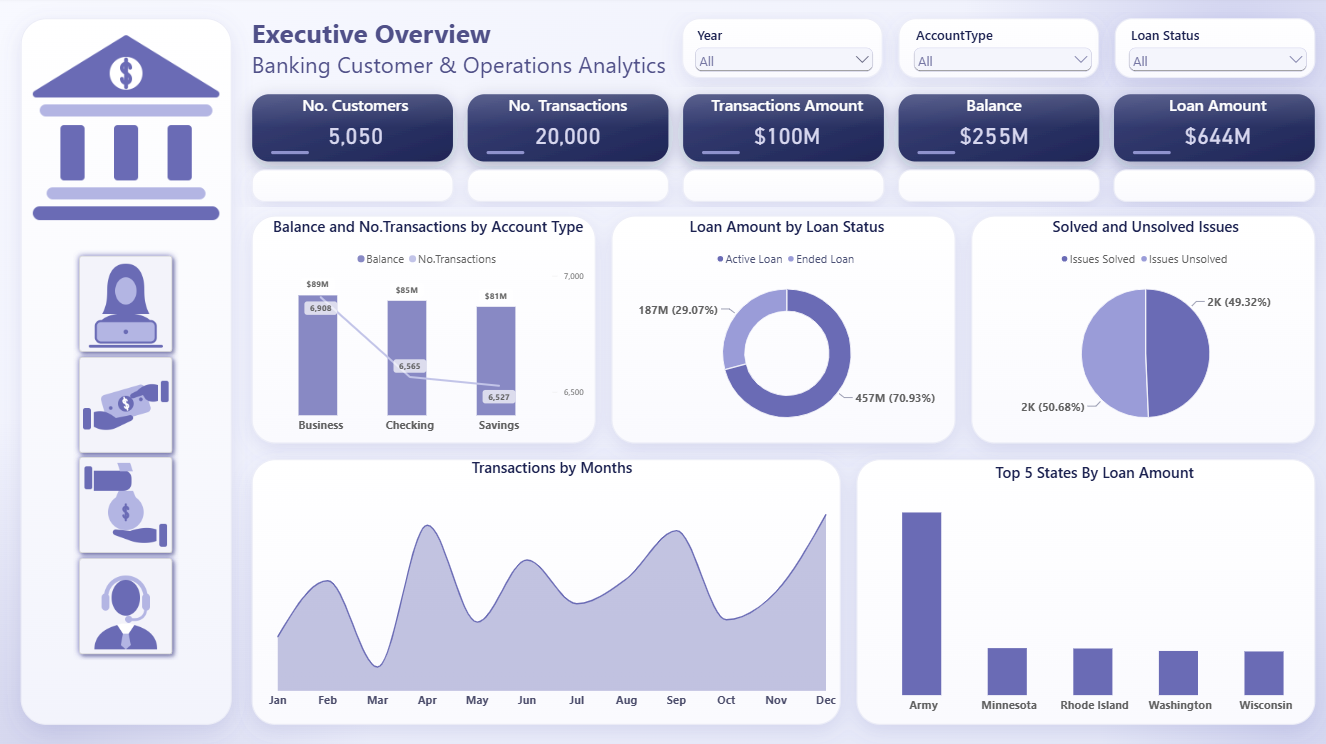

This screenshot's page, from the dashboard's own definition file:
{"tool":"powerbi","page":{"name":"Overview","canvas":[1920,1080],"ordinal":0},"visuals":[{"type":"advanceCardE03760C5AB684758B56AA29F9E6C257B","title":"Loan Amount","fields":{"mainMeasure":["Calculations Overview.Loan Amount"]},"box":[1600,128,288,96],"z":0},{"type":"advanceCardE03760C5AB684758B56AA29F9E6C257B","title":"Balance","fields":{"mainMeasure":["Calculations Overview.Balance"]},"box":[1280,128,288,96],"z":1000},{"type":"advanceCardE03760C5AB684758B56AA29F9E6C257B","title":"No. Transactions ","fields":{"mainMeasure":["Calculations Overview.No.Transactions"]},"box":[672,128,288,96],"z":2000},{"type":"slicer","fields":{"Values":["Accounts.AccountType"]},"box":[1292,32,288,96],"z":3000},{"type":"slicer","fields":{"Values":["Loans.Loan Status"]},"box":[1600,32,288,96],"z":4000},{"type":"slicer","fields":{"Values":["DimDate.Year"]},"box":[980,32,288,96],"z":5000},{"type":"advanceCardE03760C5AB684758B56AA29F9E6C257B","title":"No. Customers","fields":{"mainMeasure":["Calculations Overview.No.Customers"]},"box":[368,128,288,96],"z":6000},{"type":"advanceCardE03760C5AB684758B56AA29F9E6C257B","title":"Transactions Amount ","fields":{"mainMeasure":["Calculations Overview.Amount Transactions"]},"box":[976,128,304,96],"z":7000},{"type":"advanceCardE03760C5AB684758B56AA29F9E6C257B","fields":{"mainMeasure":["Calculations Overview.show Customer"]},"box":[352,247,300,48],"z":8000},{"type":"advanceCardE03760C5AB684758B56AA29F9E6C257B","fields":{"mainMeasure":["Calculations Overview.Show Transaction"]},"box":[656,247,300,48],"z":9000},{"type":"advanceCardE03760C5AB684758B56AA29F9E6C257B","fields":{"mainMeasure":["Calculations Overview.Show Amount Transaction"]},"box":[976,247,300,48],"z":10000},{"type":"advanceCardE03760C5AB684758B56AA29F9E6C257B","fields":{"mainMeasure":["Calculations Overview.show Loan"]},"box":[1600,247,300,48],"z":11000},{"type":"advanceCardE03760C5AB684758B56AA29F9E6C257B","fields":{"mainMeasure":["Calculations Overview.Show Balance"]},"box":[1280,247,300,48],"z":12000},{"type":"lineClusteredColumnComboChart","title":"Balance and No.Transactions by Account Type","fields":{"Category":["Accounts.AccountType"],"Y":["Calculations Overview.Balance"],"Y2":["Calculations Overview.No.Transactions"]},"box":[368,304,496,336],"z":13000},{"type":"donutChart","title":"Loan Amount by Loan Status","fields":{"Category":["Loans.Loan Status"],"Y":["Sum(Loans.LoanAmount)"]},"box":[880,304,496,336],"z":14000},{"type":"lineChart","title":"Transactions by Months","fields":{"Category":["DimDate.MonthName"],"Y":["Calculations Overview.No.Transactions"]},"box":[360,648,864,384],"z":15000},{"type":"lineClusteredColumnComboChart","title":"Top 5 States By Loan Amount","fields":{"Category":["Customers.State"],"Y":["Calculations Overview.Loan Amount"]},"box":[1232,656,672,384],"z":16000},{"type":"pieChart","title":"Solved and Unsolved Issues","fields":{"Y":["Customer Survice.Issues Solved","Customer Survice.Issues Unsolved"]},"box":[1392,304,496,336],"z":17000},{"type":"cardVisual","fields":{"Data":["Calculations Overview.Arrow Cutomer"]},"box":[527,238,80,65],"z":18000},{"type":"cardVisual","fields":{"Data":["Calculations Overview.Arrow Transactions"]},"box":[827,238,80,65],"z":19000},{"type":"cardVisual","fields":{"Data":["Calculations Overview.Arrow Amount Transactions"]},"box":[1147,238,80,65],"z":20000},{"type":"cardVisual","fields":{"Data":["Calculations Overview.Arrow Balance"]},"box":[1455,238,80,65],"z":21000},{"type":"cardVisual","fields":{"Data":["Calculations Overview.Arrow Loan"]},"box":[1770,238,80,65],"z":22000},{"type":"actionButton","box":[128,80,512,400],"z":23000},{"type":"image","box":[0,16,368,336],"z":24000},{"type":"actionButton","box":[96,352,175,175],"z":25000},{"type":"actionButton","box":[96,496,175,175],"z":26000},{"type":"actionButton","box":[96,640,175,175],"z":27000},{"type":"actionButton","box":[96,784,175,175],"z":28000},{"type":"textbox","box":[352,16,864,112],"z":29000}]}

Visuals, with their boxes in screenshot pixels (x1, y1, x2, y2), scaled from the page's 1920x1080 canvas onto the 1326x744 screenshot:
"Loan Amount" advanceCardE03760C5AB684758B56AA29F9E6C257B: locate(1105, 88, 1304, 154)
"Balance" advanceCardE03760C5AB684758B56AA29F9E6C257B: locate(884, 88, 1083, 154)
"No. Transactions " advanceCardE03760C5AB684758B56AA29F9E6C257B: locate(464, 88, 663, 154)
slicer - Accounts.AccountType: locate(892, 22, 1091, 88)
slicer - Loans.Loan Status: locate(1105, 22, 1304, 88)
slicer - DimDate.Year: locate(677, 22, 876, 88)
"No. Customers" advanceCardE03760C5AB684758B56AA29F9E6C257B: locate(254, 88, 453, 154)
"Transactions Amount " advanceCardE03760C5AB684758B56AA29F9E6C257B: locate(674, 88, 884, 154)
advanceCardE03760C5AB684758B56AA29F9E6C257B - Calculations Overview.show Customer: locate(243, 170, 450, 203)
advanceCardE03760C5AB684758B56AA29F9E6C257B - Calculations Overview.Show Transaction: locate(453, 170, 660, 203)
advanceCardE03760C5AB684758B56AA29F9E6C257B - Calculations Overview.Show Amount Transaction: locate(674, 170, 881, 203)
advanceCardE03760C5AB684758B56AA29F9E6C257B - Calculations Overview.show Loan: locate(1105, 170, 1312, 203)
advanceCardE03760C5AB684758B56AA29F9E6C257B - Calculations Overview.Show Balance: locate(884, 170, 1091, 203)
"Balance and No.Transactions by Account Type" lineClusteredColumnComboChart: locate(254, 209, 597, 441)
"Loan Amount by Loan Status" donutChart: locate(608, 209, 950, 441)
"Transactions by Months" lineChart: locate(249, 446, 845, 711)
"Top 5 States By Loan Amount" lineClusteredColumnComboChart: locate(851, 452, 1315, 716)
"Solved and Unsolved Issues" pieChart: locate(961, 209, 1304, 441)
cardVisual - Calculations Overview.Arrow Cutomer: locate(364, 164, 419, 209)
cardVisual - Calculations Overview.Arrow Transactions: locate(571, 164, 626, 209)
cardVisual - Calculations Overview.Arrow Amount Transactions: locate(792, 164, 847, 209)
cardVisual - Calculations Overview.Arrow Balance: locate(1005, 164, 1060, 209)
cardVisual - Calculations Overview.Arrow Loan: locate(1222, 164, 1278, 209)
actionButton: locate(88, 55, 442, 331)
image: locate(0, 11, 254, 242)
actionButton: locate(66, 242, 187, 363)
actionButton: locate(66, 342, 187, 462)
actionButton: locate(66, 441, 187, 561)
actionButton: locate(66, 540, 187, 661)
textbox: locate(243, 11, 840, 88)
